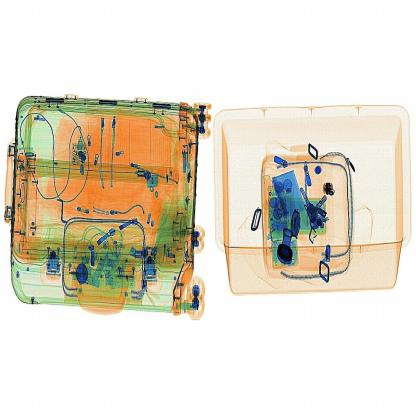scissors: (321, 179, 339, 199)
